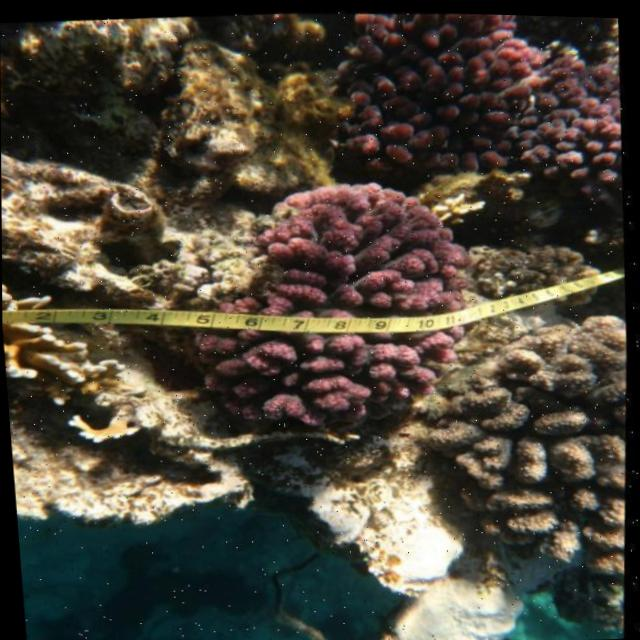Bleached Coral: (173, 157, 507, 455), (319, 7, 630, 196)
